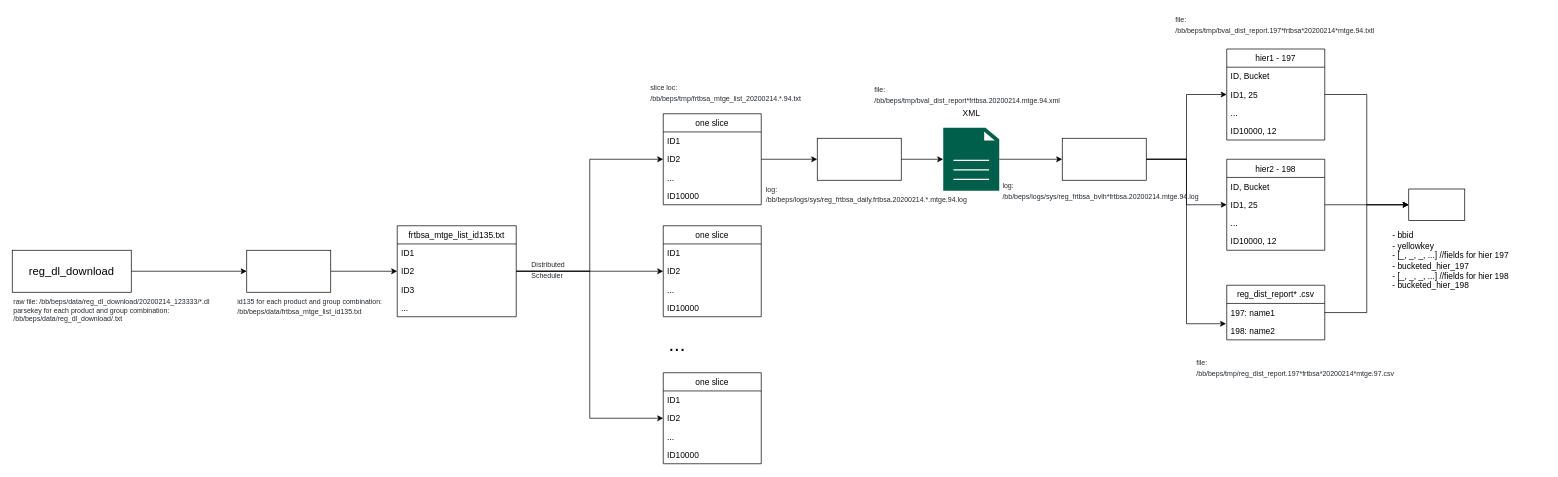
Image size: 1558x477. Some labels were removed from this diagram. The shapes that lost their labels are listed below. From the top down, each one's centre as x and y in pixels, then its label:
At pixel 859 159: "reg_generic _daily.sh".
At pixel 1104 159: "reg_dist_report.tsk".
At pixel 1436 204: "GU".
At pixel 288 271: "reg_xlate_ids".
